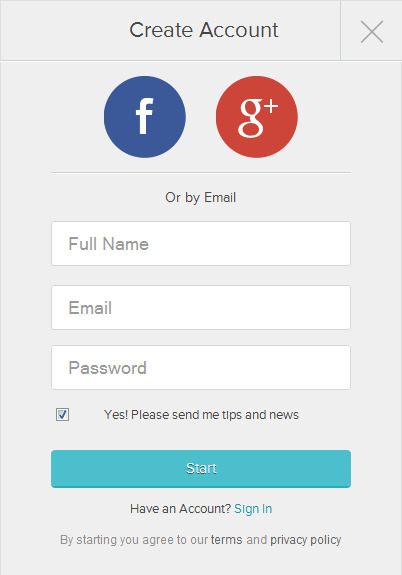button: (50, 449, 352, 488)
checkbox: (55, 406, 72, 421)
field: (50, 284, 351, 330), (50, 221, 352, 266), (50, 345, 351, 390)
